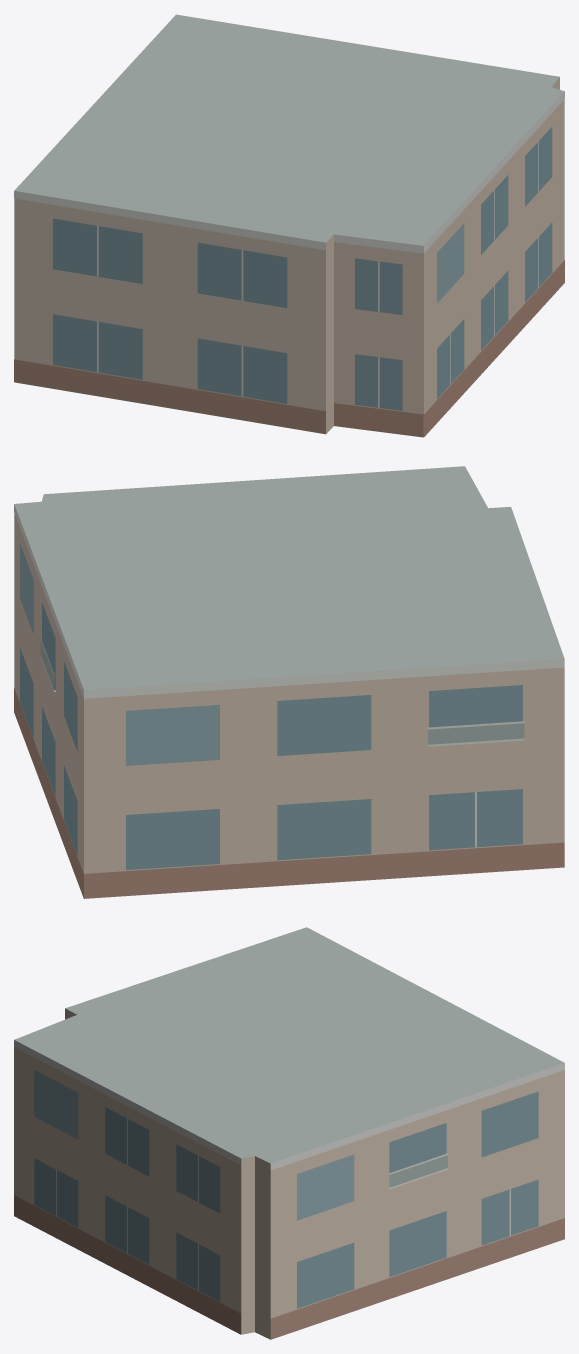
The model's file is survey-upis-32878910.glb.
The picture shows the model from 3 angles, top to bottom: view 1: azimuth 30°, elevation 25°; view 2: azimuth 150°, elevation 25°; view 3: azimuth 270°, elevation 25°; orthographic projection. The views are drawn at different scales.
Parts seen in each view (by area): view 1: survey-upis-32878910.tmp; view 2: survey-upis-32878910.tmp; view 3: survey-upis-32878910.tmp.
Part boxes in pixels (x1=…): survey-upis-32878910.tmp: x1=14, y1=14, x2=564, y2=437; survey-upis-32878910.tmp: x1=14, y1=466, x2=564, y2=898; survey-upis-32878910.tmp: x1=14, y1=927, x2=564, y2=1339.
Size of the model in its own units: 17.55 by 6.1 by 17.28.
